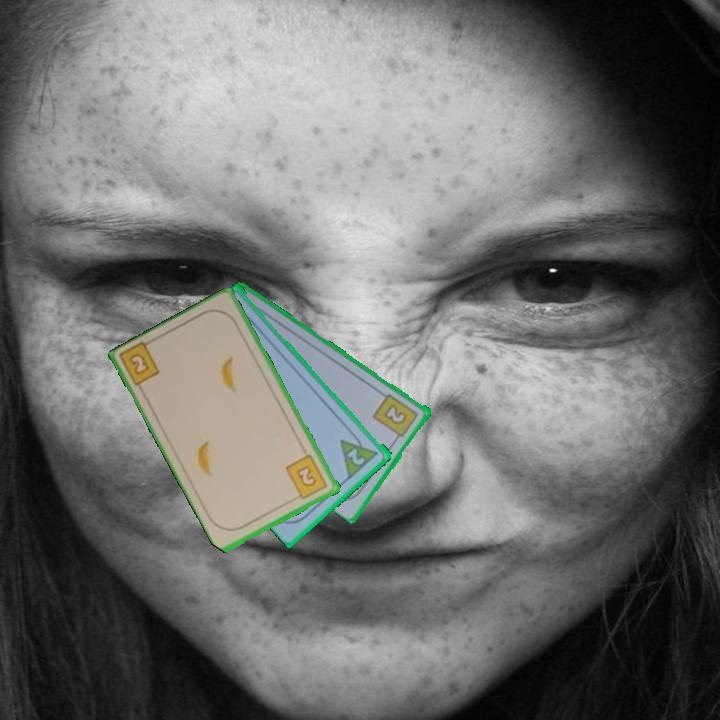2b: (370, 390, 422, 444), (282, 451, 331, 503), (126, 350, 152, 378)
2p: (344, 445, 368, 468)
